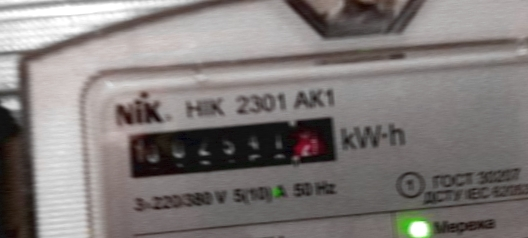0: (141, 136, 161, 164), (169, 131, 185, 159)
1: (268, 122, 283, 150)
2: (193, 130, 210, 156)
4: (244, 125, 259, 149)
5: (217, 126, 237, 156)
6: (296, 137, 313, 156)
screen: (113, 100, 351, 188)
